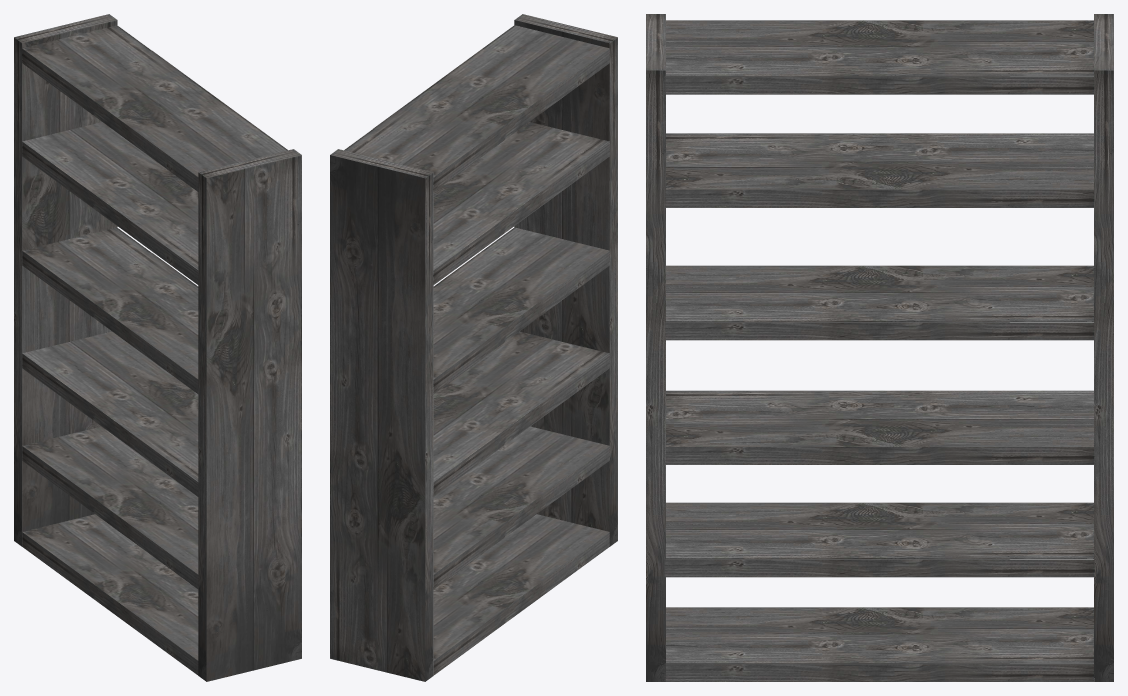
The model's file is empty_bookshelf.fbx.
3 renders of one model, left to right at view 1: azimuth 30°, elevation 25°; view 2: azimuth 150°, elevation 25°; view 3: azimuth 270°, elevation 25°, orthographic. The views are drawn at different scales.
Visible parts, largest first — view 1: pCube1, pCube2, pCube7, pCube6, pCube5, pCube8, pCube4, pCube3; view 2: pCube2, pCube1, pCube7, pCube6, pCube5, pCube8, pCube4, pCube3; view 3: pCube4, pCube6, pCube7, pCube8, pCube3, pCube5, pCube2, pCube1.
Boxes of the visible parts, box(x1,y1,x2,y2) form: pCube1: box(198, 149, 301, 681); pCube2: box(14, 14, 117, 546); pCube7: box(22, 25, 287, 191); pCube6: box(22, 227, 198, 393); pCube5: box(22, 331, 198, 496); pCube8: box(22, 122, 198, 284); pCube4: box(22, 426, 198, 588); pCube3: box(22, 514, 198, 675); pCube2: box(330, 149, 433, 681); pCube1: box(514, 14, 617, 546); pCube7: box(344, 25, 609, 192); pCube6: box(433, 227, 609, 394); pCube5: box(433, 331, 609, 497); pCube8: box(433, 122, 609, 285); pCube4: box(433, 426, 609, 589); pCube3: box(433, 514, 609, 675); pCube4: box(664, 502, 1094, 577); pCube6: box(664, 265, 1094, 340); pCube7: box(664, 20, 1094, 94); pCube8: box(664, 133, 1094, 207); pCube3: box(664, 607, 1094, 681); pCube5: box(664, 390, 1094, 464); pCube2: box(1094, 14, 1113, 681); pCube1: box(646, 14, 665, 681).
Bounding box in the file's own units: 1.31 × 6.63 × 4.6.
Materials: 1 (1 with a texture image).
